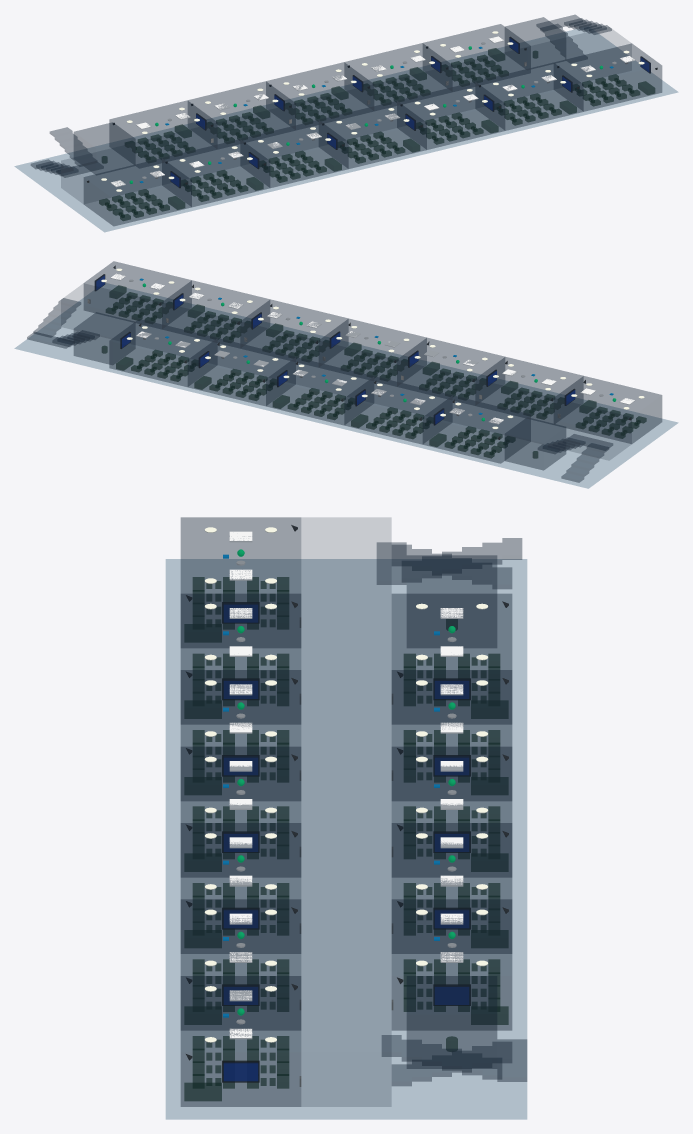
Rendered from Tang_3.glb.
The picture shows the model from 3 angles, top to bottom: view 1: azimuth 30°, elevation 25°; view 2: azimuth 150°, elevation 25°; view 3: azimuth 270°, elevation 25°; orthographic projection. The views are drawn at different scales.
Visible parts, largest first — view 1: Arch:CORRIDOR, Arch:FLOOR, Arch:WALL_L4-B1, Arch:WALL_L4-T1, Arch:WALL_L4-B3, Arch:WALL_L4-B4, Arch:WALL_L4-B6, Arch:WALL_L4-B7, Arch:WALL_L4-B2, Arch:WALL_L4-B5, Arch:WALL_L4-T3, Arch:WALL_L4-T4 (+4 smaller); view 2: Arch:CORRIDOR, Arch:FLOOR, Arch:WALL_L4-T1, Arch:WALL_L4-B1, Arch:WALL_L4-T2, Arch:WALL_L4-T5, Arch:WALL_L4-T4, Arch:WALL_L4-T3, Arch:WALL_L4-B4, Arch:WALL_L4-B5, Arch:WALL_L4-B3, Arch:WALL_L4-B6 (+4 smaller); view 3: Arch:FLOOR, Arch:CORRIDOR, Arch:WALL_L4-T5, Arch:WALL_L4-B7, Arch:RESTROOM (×2), Arch:WALL_L4-B6, Arch:WALL_L4-T2, Arch:WALL_L4-B3, Arch:WALL_L4-T4, Arch:WALL_L4-T3, Arch:WALL_L4-B4, Arch:WALL_L4-B5 (+4 smaller).
Boxes of the visible parts, x1,y1,x2,y2 form: Arch:CORRIDOR: (61,27,630,203); Arch:FLOOR: (15,29,677,231); Arch:WALL_L4-B1: (84,158,191,225); Arch:WALL_L4-T1: (109,100,217,167); Arch:WALL_L4-B3: (240,120,348,187); Arch:WALL_L4-B4: (319,101,426,168); Arch:WALL_L4-B6: (475,63,583,130); Arch:WALL_L4-B7: (554,43,661,111); Arch:WALL_L4-B2: (162,139,269,206); Arch:WALL_L4-B5: (397,82,504,149); Arch:WALL_L4-T3: (266,62,373,129); Arch:WALL_L4-T4: (344,43,452,110); Arch:CORRIDOR: (61,284,631,459); Arch:FLOOR: (15,283,677,488); Arch:WALL_L4-T1: (423,395,530,463); Arch:WALL_L4-B1: (554,376,661,443); Arch:WALL_L4-T2: (344,376,452,444); Arch:WALL_L4-T5: (109,319,217,386); Arch:WALL_L4-T4: (188,338,295,405); Arch:WALL_L4-T3: (266,357,373,425); Arch:WALL_L4-B4: (319,319,426,386); Arch:WALL_L4-B5: (240,299,348,366); Arch:WALL_L4-B3: (397,338,504,405); Arch:WALL_L4-B6: (162,280,269,347); Arch:FLOOR: (166,559,526,1119); Arch:CORRIDOR: (302,518,390,1106); Arch:WALL_L4-T5: (392,899,511,1030); Arch:WALL_L4-B7: (181,976,300,1106); Arch:RESTROOM (×2): (407,555,496,1068); Arch:WALL_L4-B6: (181,899,300,1030); Arch:WALL_L4-T2: (392,670,511,800); Arch:WALL_L4-B3: (181,670,300,800); Arch:WALL_L4-T4: (392,823,511,953); Arch:WALL_L4-T3: (392,747,511,877); Arch:WALL_L4-B4: (181,747,300,877); Arch:WALL_L4-B5: (181,823,300,953).
Size of the model in its own units: 88 by 4.01 by 24.
